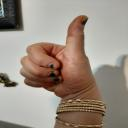ThumbsUp: (22, 13, 98, 97)
